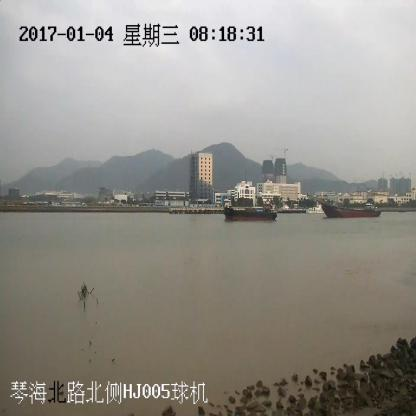Bulk Carrier: (308, 194, 379, 218)
